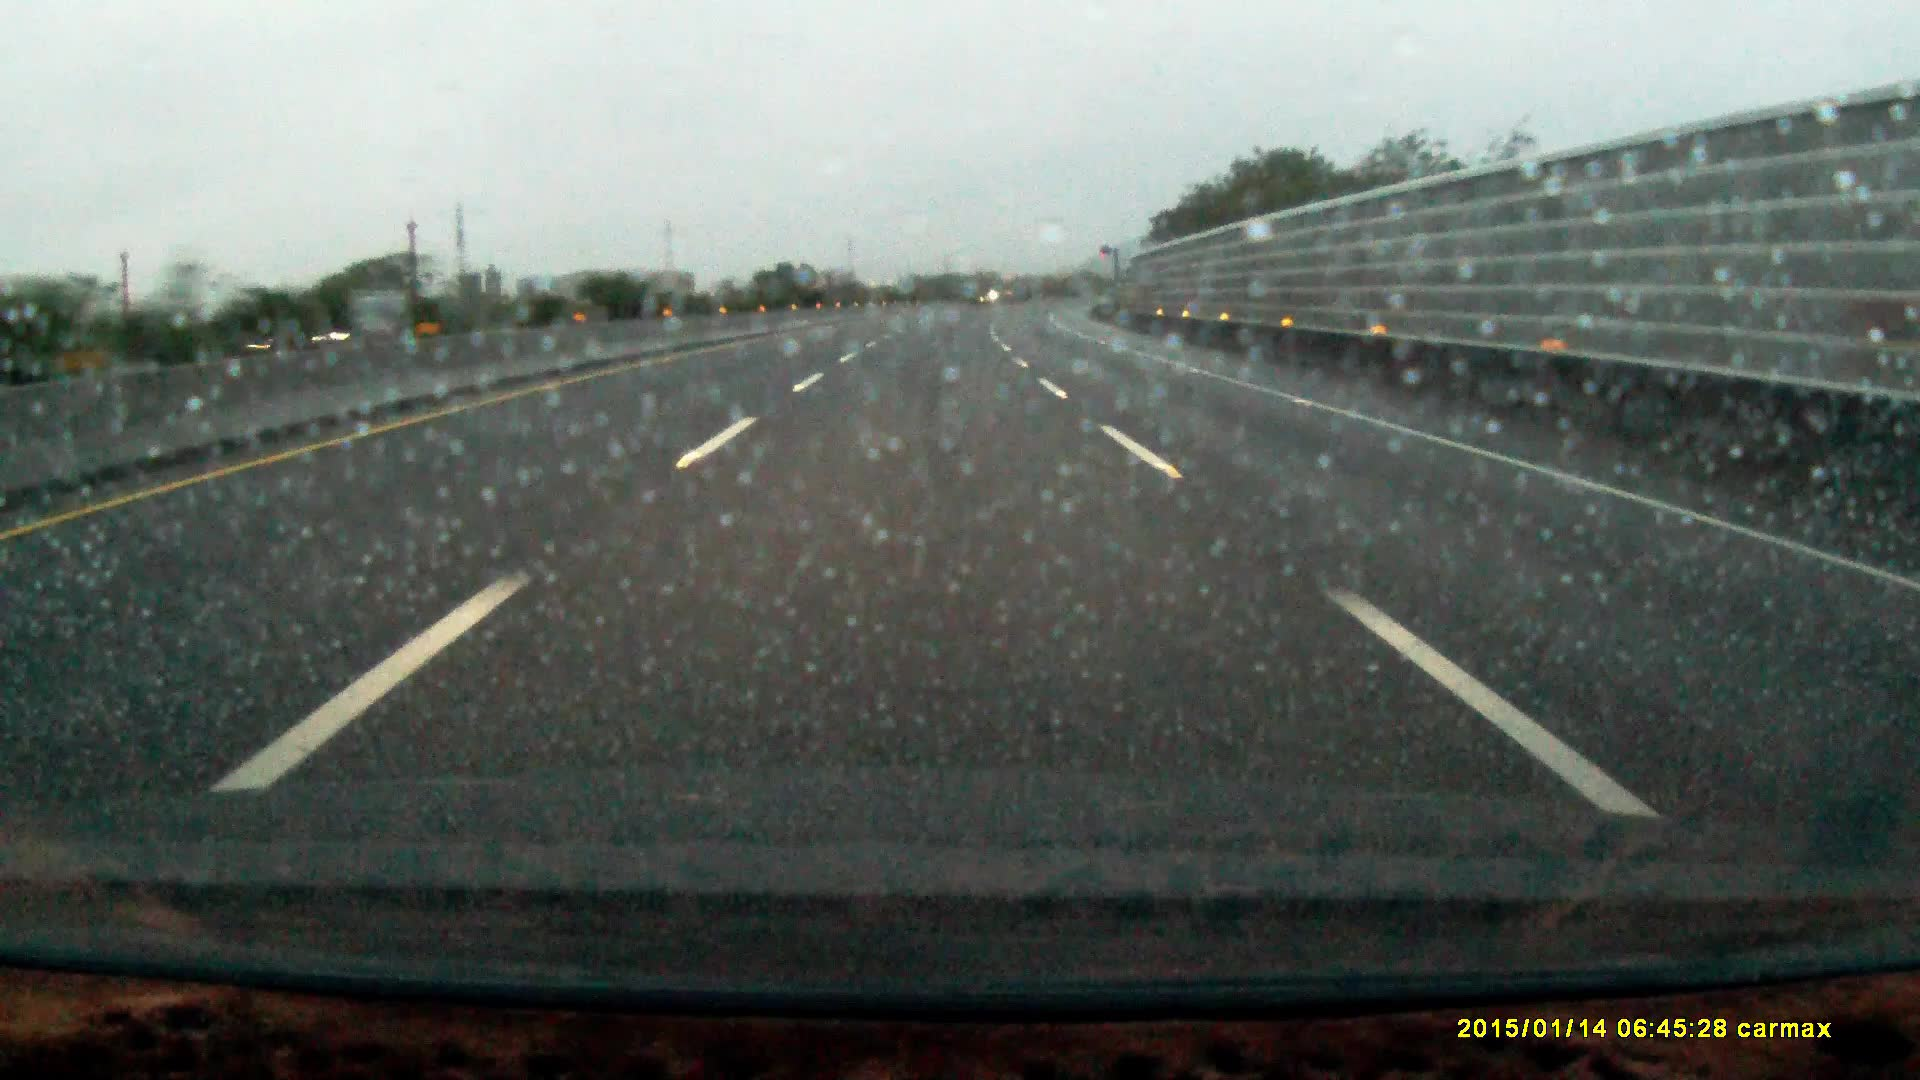vehicle: (245, 309, 355, 351)
